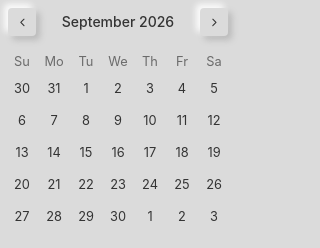
Test: Calendar › covers: AC-7 navigates between months with accessible controls
Expected: the text "September 2026" is shown, 62,12 -> 174,32
What coordinates should you click on to do the following:
click the button named "next month"
I would click on:
 (214, 22)
Its box is 200,8 -> 228,36.
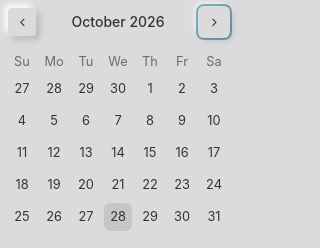
Result: the text "October 2026" is shown at 72,12 -> 164,32
